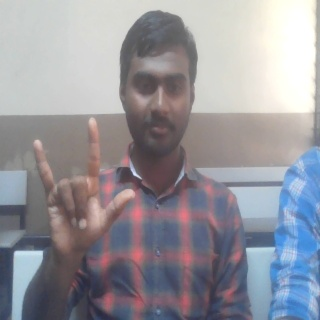Face: (117, 8, 199, 160)
I Love You: (26, 116, 140, 254)
